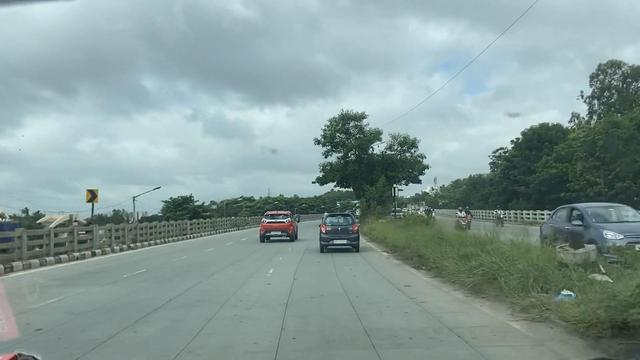LMV: (323, 212, 352, 247), (262, 213, 292, 240)
